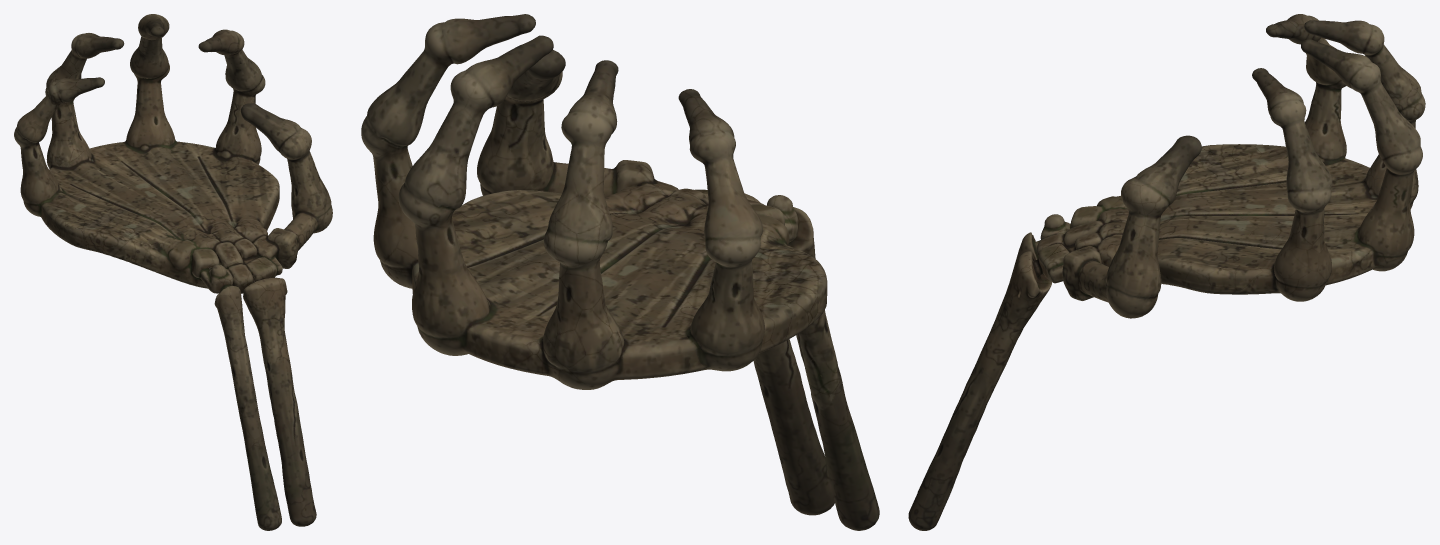
File: ui_skeletal_hand.glb
3 views of the same model, side by side, from view 1: azimuth 30°, elevation 25°; view 2: azimuth 150°, elevation 25°; view 3: azimuth 270°, elevation 25° (orthographic). The views are drawn at different scales.
Parts seen in each view (by area): view 1: ui_skeletal_hand; view 2: ui_skeletal_hand; view 3: ui_skeletal_hand.
Boxes of the visible parts, x1,y1,x2,y2 form: ui_skeletal_hand: (14, 14, 332, 530); ui_skeletal_hand: (361, 14, 879, 530); ui_skeletal_hand: (908, 14, 1425, 530).
Size of the model in its own units: 1.27 by 1.98 by 1.88.
Materials: 1 (1 with a texture image).
